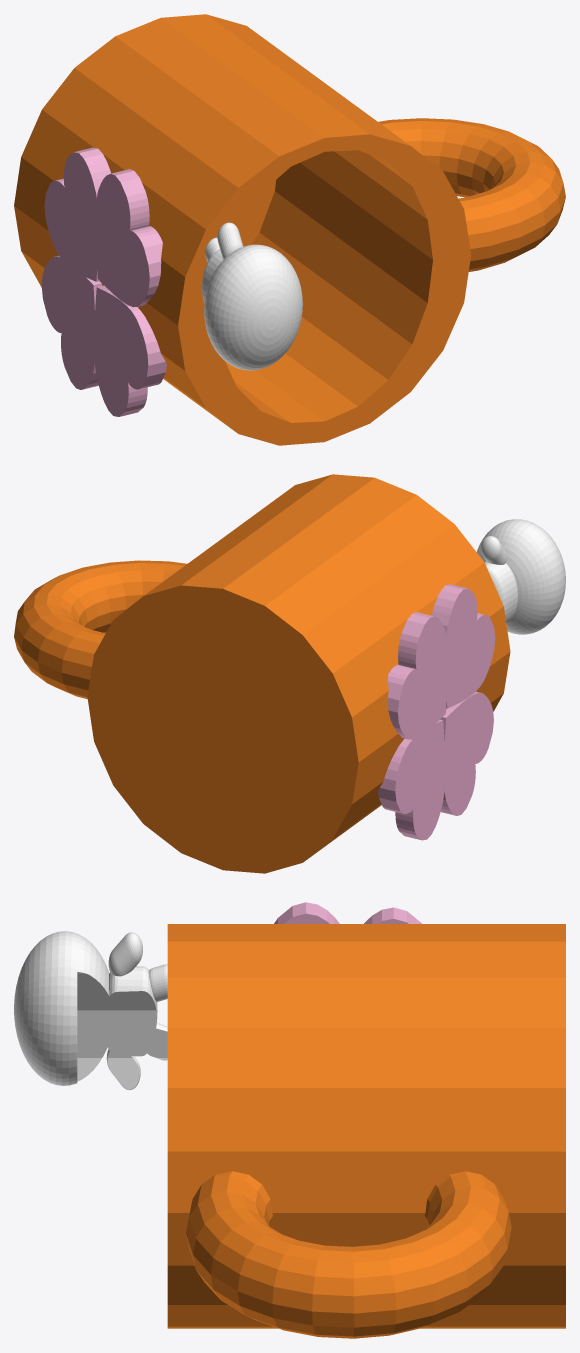
File: tinker.obj
3 views of the same model, one above another, from view 1: azimuth 30°, elevation 25°; view 2: azimuth 150°, elevation 25°; view 3: azimuth 270°, elevation 25° (orthographic). The views are drawn at different scales.
Visible parts, largest first — view 1: group_0_16089887, group_0_15708628, group_0_16448250; view 2: group_0_16089887, group_0_15708628, group_0_16448250; view 3: group_0_16089887, group_0_16448250, group_0_15708628.
Boxes of the visible parts, x1,y1,x2,y2 form: group_0_16089887: (14,14,565,445); group_0_15708628: (41,147,166,416); group_0_16448250: (202,222,302,370); group_0_16089887: (14,474,510,873); group_0_15708628: (378,584,495,840); group_0_16448250: (477,519,565,634); group_0_16089887: (167,924,565,1338); group_0_16448250: (14,931,167,1090); group_0_15708628: (274,902,421,923).
Size of the model in its own units: 71 by 45 by 61.
